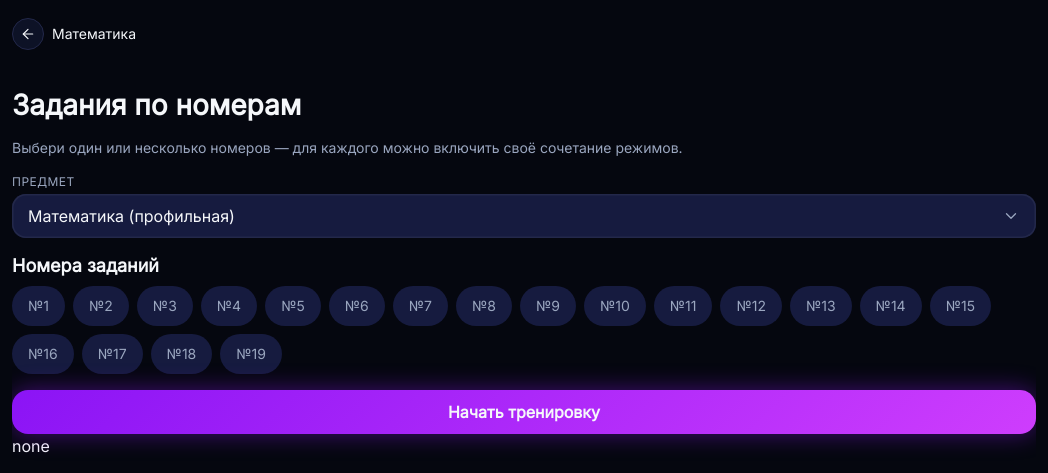
TrainingByNumber › BackRow returns to the real `from` route instead of a hardcoded Training
This screenshot has width=1048, height=473.
Click the button "Математика": (28, 34) left=12, top=12, right=1036, bottom=56
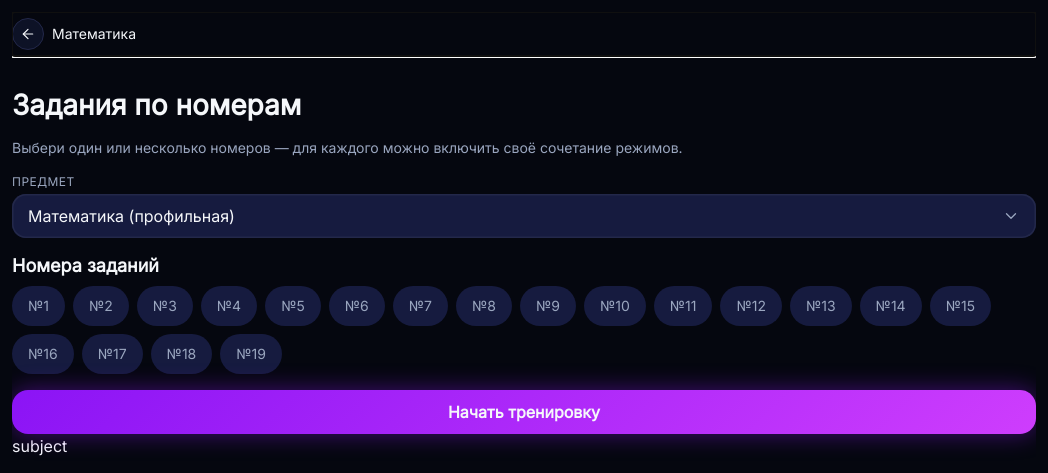
Result: the text with test id "overlay" reads "subject" at left=12, top=436, right=67, bottom=456
